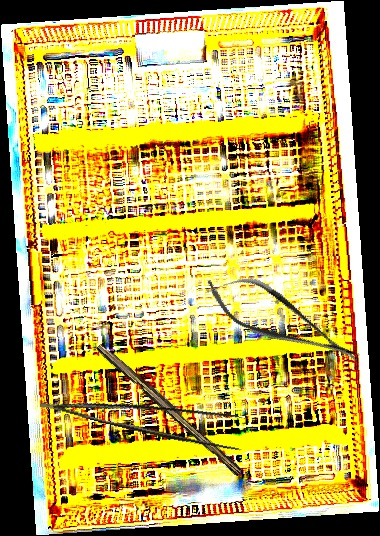Micro Scissor: (195, 258, 370, 384)
Scalpel Handle: (93, 340, 247, 477)
Tissue Forceps: (39, 369, 250, 457)
